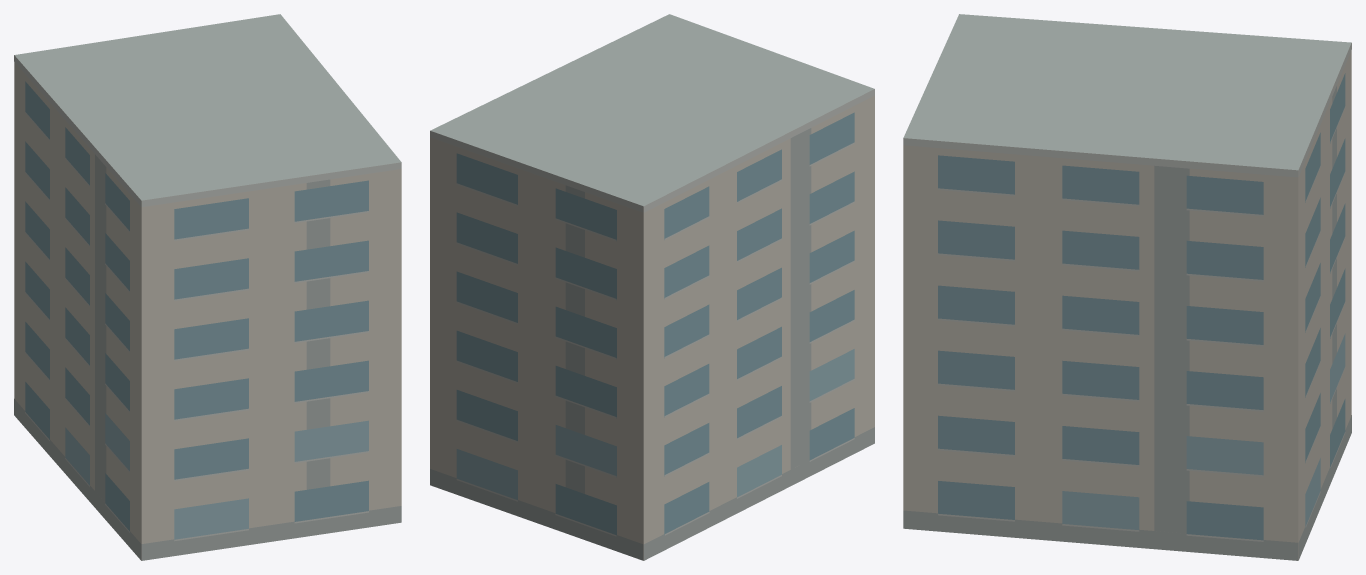
File: survey-upis-33035909.glb
3 views of the same model, side by side, from view 1: azimuth 30°, elevation 25°; view 2: azimuth 150°, elevation 25°; view 3: azimuth 270°, elevation 25° (orthographic). The views are drawn at different scales.
Visible parts, largest first — view 1: survey-upis-33035909.tmp; view 2: survey-upis-33035909.tmp; view 3: survey-upis-33035909.tmp.
Boxes of the visible parts, left/top/right/bottom form: survey-upis-33035909.tmp: left=14, top=14, right=401, bottom=560; survey-upis-33035909.tmp: left=430, top=14, right=874, bottom=560; survey-upis-33035909.tmp: left=903, top=14, right=1351, bottom=560.
Size of the model in its own units: 11.34 by 13.2 by 13.74.
